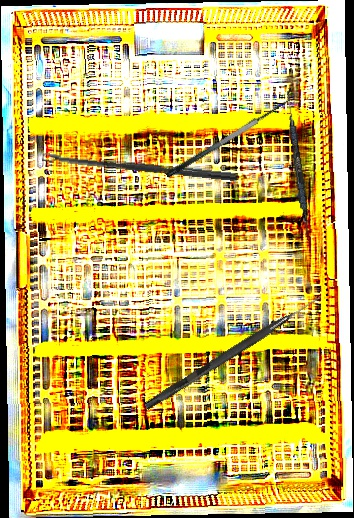Hook Surgical: (143, 290, 324, 413)
Spatula Surgical: (158, 88, 297, 180), (281, 87, 315, 242)
Surgical Spoon: (42, 151, 238, 182)
